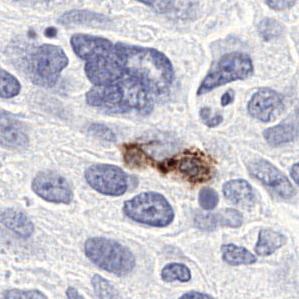Lymphocyte: (122, 143, 215, 180)
